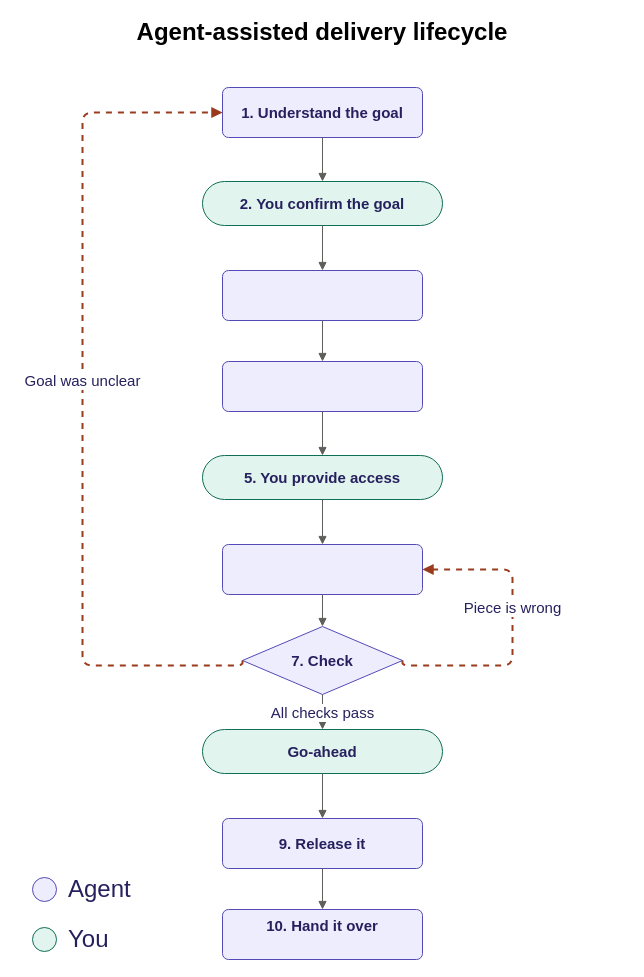
The diagram is 644 pixels wide and 977 high, and some of its shapes have lost their labels. The centre of each missing label's shape, as x and y in pixels:
"3. Break it down" belongs at [322,295].
"4. Get ready" belongs at [322,386].
"6. Build" belongs at [322,569].
